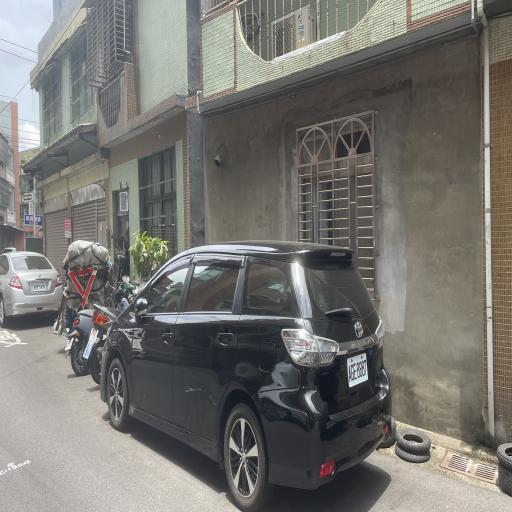car: (95, 226, 391, 512), (0, 236, 61, 327)
